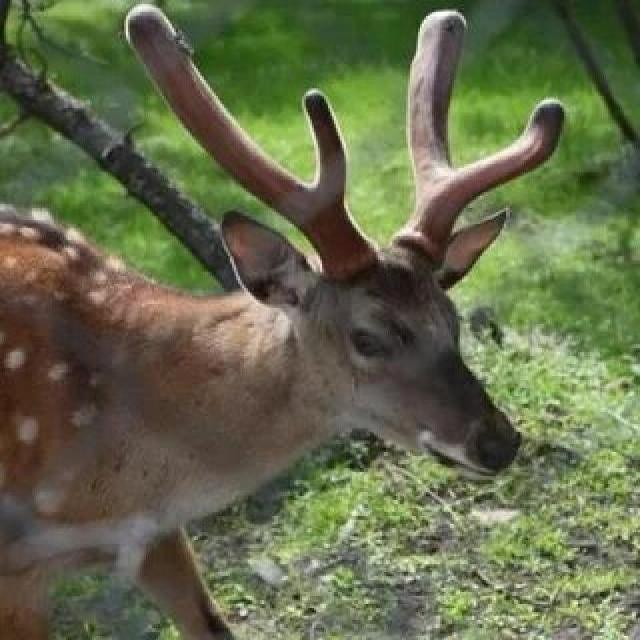deer: (0, 100, 577, 640)
